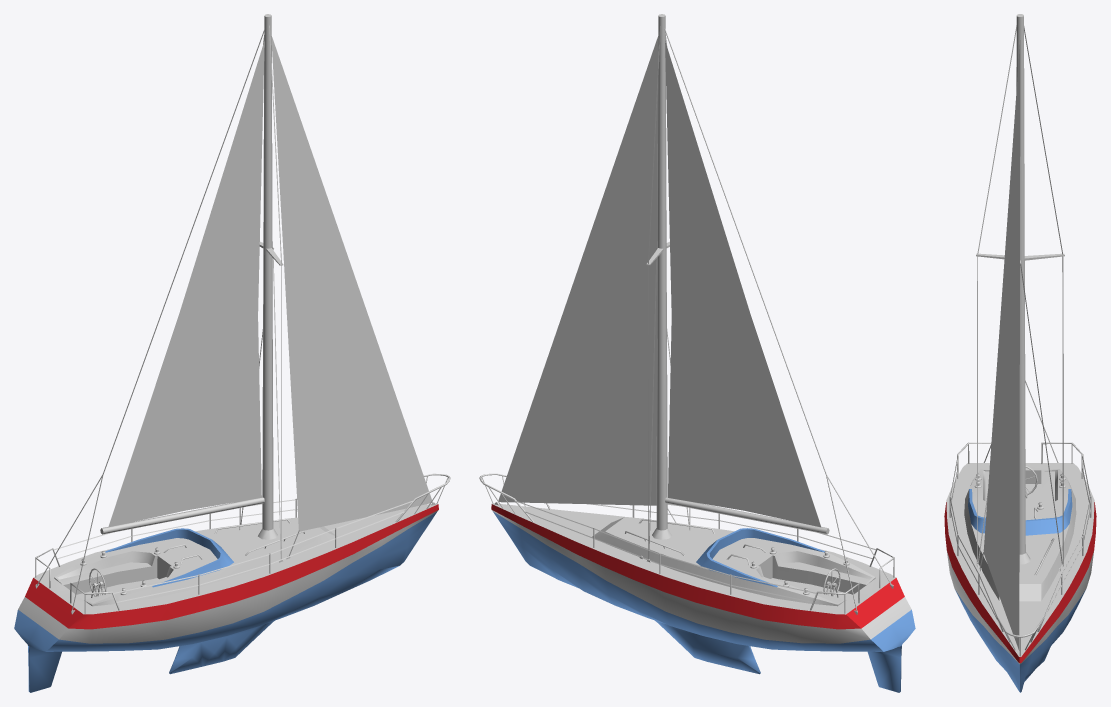
Rendered from yelkenli.fbx.
3 views of the same model, side by side, from view 1: azimuth 30°, elevation 25°; view 2: azimuth 150°, elevation 25°; view 3: azimuth 270°, elevation 25° (orthographic). The views are drawn at different scales.
Visible parts, largest first — view 1: Sailboat; view 2: Sailboat; view 3: Sailboat.
Part boxes in pixels (<box>): Sailboat: <box>14,14,450,692</box>; Sailboat: <box>479,14,915,692</box>; Sailboat: <box>944,14,1096,692</box>.
Bounding box in the file's own units: 846 × 1221 × 253.
